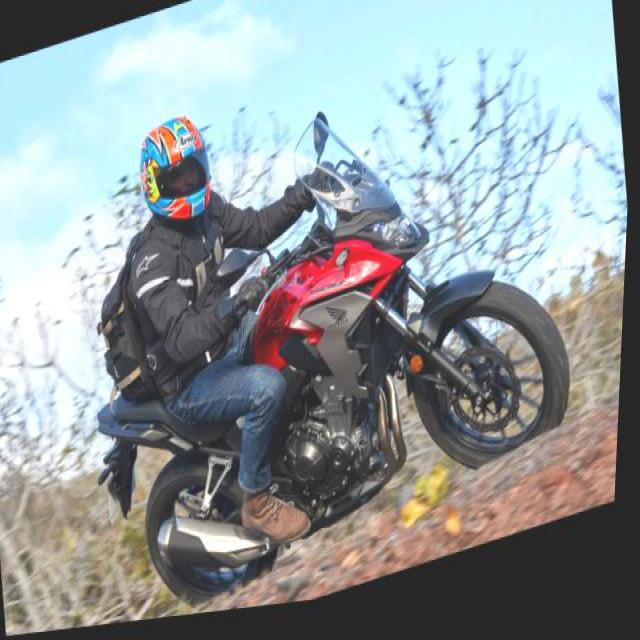CB500X: (63, 45, 602, 631)
